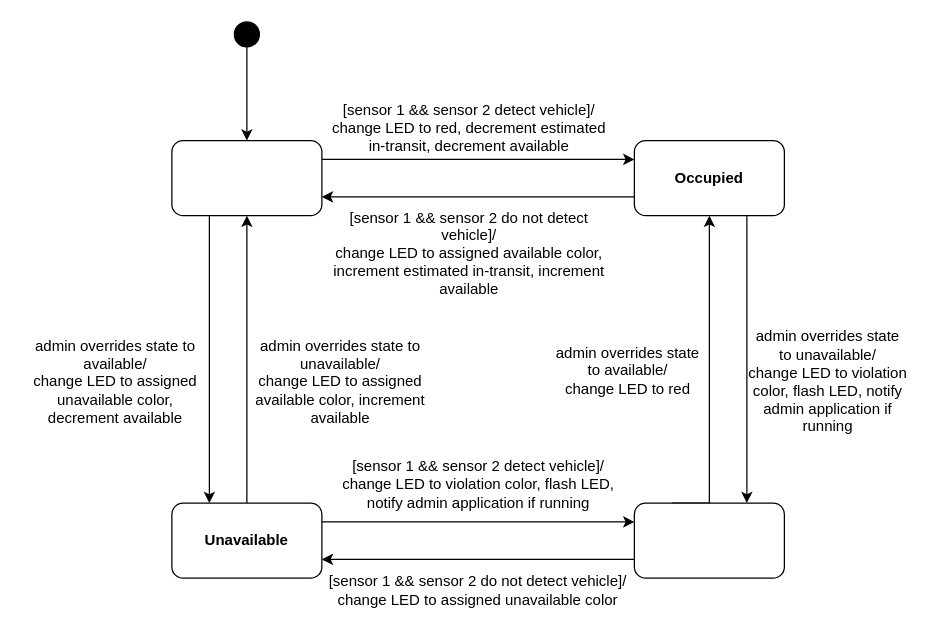
This 930x638 diagram has some shape labels left out. The shapes that lost their labels are listed below. From the top down, each one's centre as x and y in pixels, then its label:
At (x=246, y=177): "Available".
At (x=708, y=540): "Violation".
